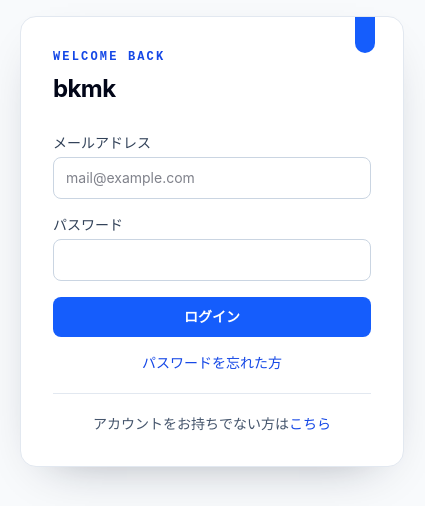
Test: LoginPage › ログインモードに戻れる
This screenshot has width=425, height=506.
アカウント作成モードに切り替え
Click the button "こちら". click: {"x": 310, "y": 424}
box: [289,414,331,434]
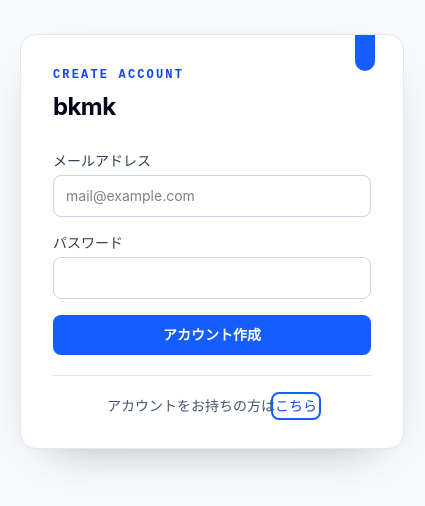
Check: the button "アカウント作成" is shown, box [53,314,371,354]
ログインモードに戻す
Click the button "こちら". click: {"x": 296, "y": 406}
box: [275,396,317,416]
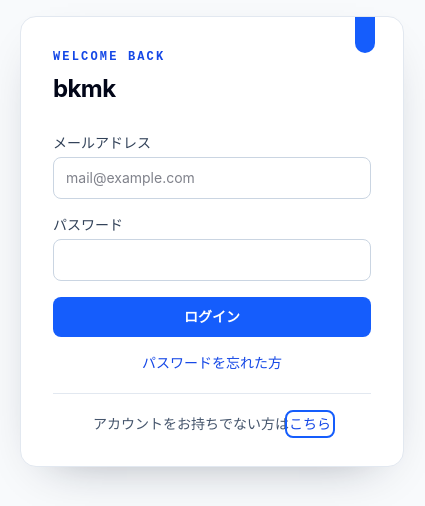
Check: the button "ログイン" is shown, box [53,296,371,336]
